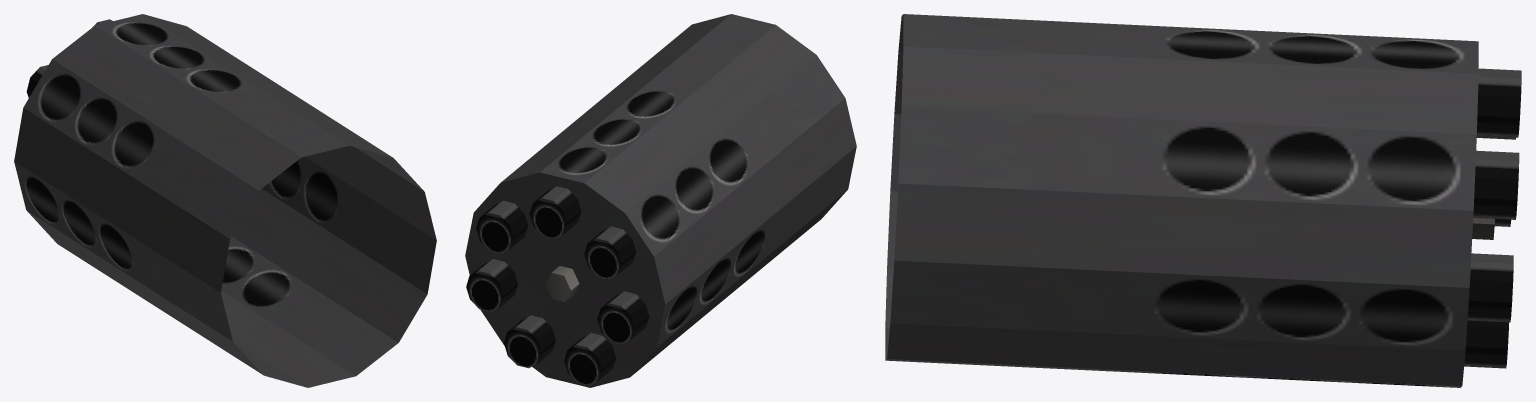
Rendered from cannon.gltf.
3 views of the same model, side by side, from view 1: azimuth 30°, elevation 25°; view 2: azimuth 150°, elevation 25°; view 3: azimuth 270°, elevation 25° (orthographic). The views are drawn at different scales.
Bounding box in the file's own units: 0.5483 × 0.5952 × 1.01.
1 material, 1 textured.
